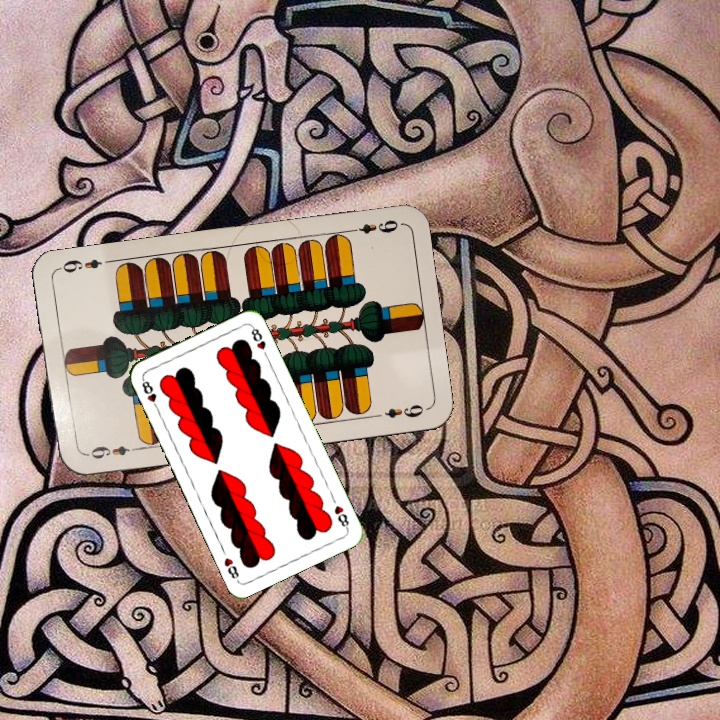E9: (81, 441, 140, 462), (344, 215, 401, 236)
H8: (138, 374, 161, 413), (330, 501, 351, 532)
